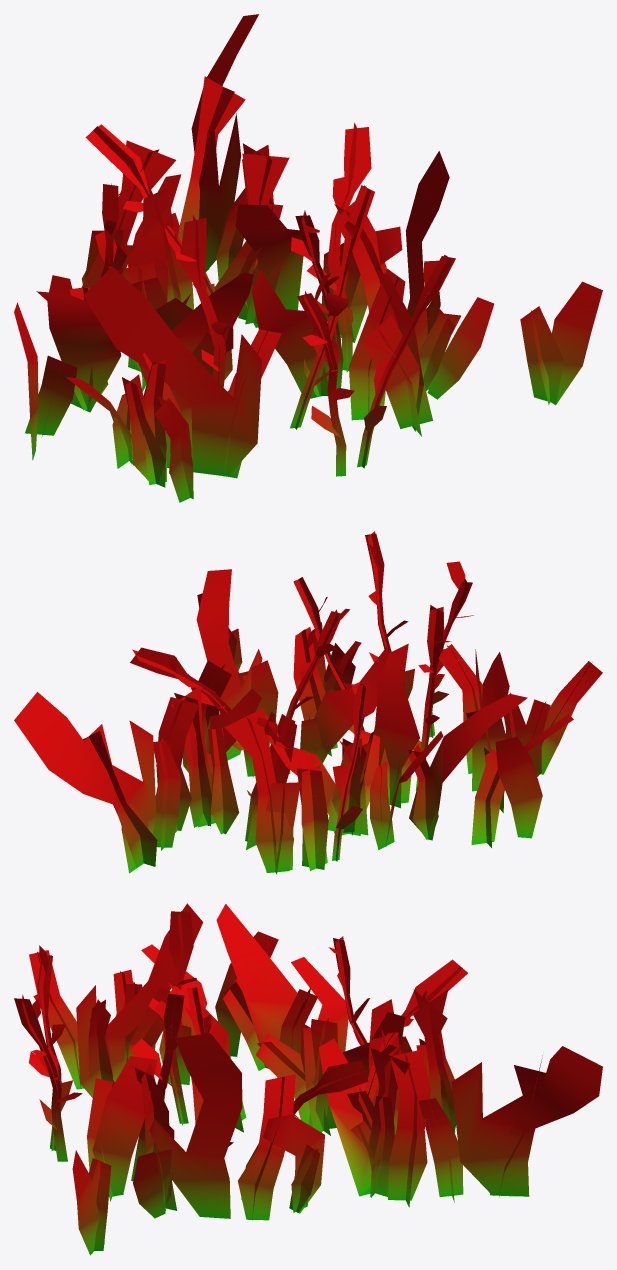
File: Var8_LOD0.fbx
3 views of the same model, one above another, from view 1: azimuth 30°, elevation 25°; view 2: azimuth 150°, elevation 25°; view 3: azimuth 270°, elevation 25° (orthographic). The views are drawn at different scales.
Parts seen in each view (by area): view 1: _2b81_Var8_LOD0; view 2: _2b81_Var8_LOD0; view 3: _2b81_Var8_LOD0.
Part boxes in pixels (x1,y1,x2,y2): _2b81_Var8_LOD0: (14, 14, 602, 502); _2b81_Var8_LOD0: (14, 531, 602, 874); _2b81_Var8_LOD0: (14, 903, 602, 1255).
Bounding box in the file's own units: 17.55 × 7.77 × 19.69.
